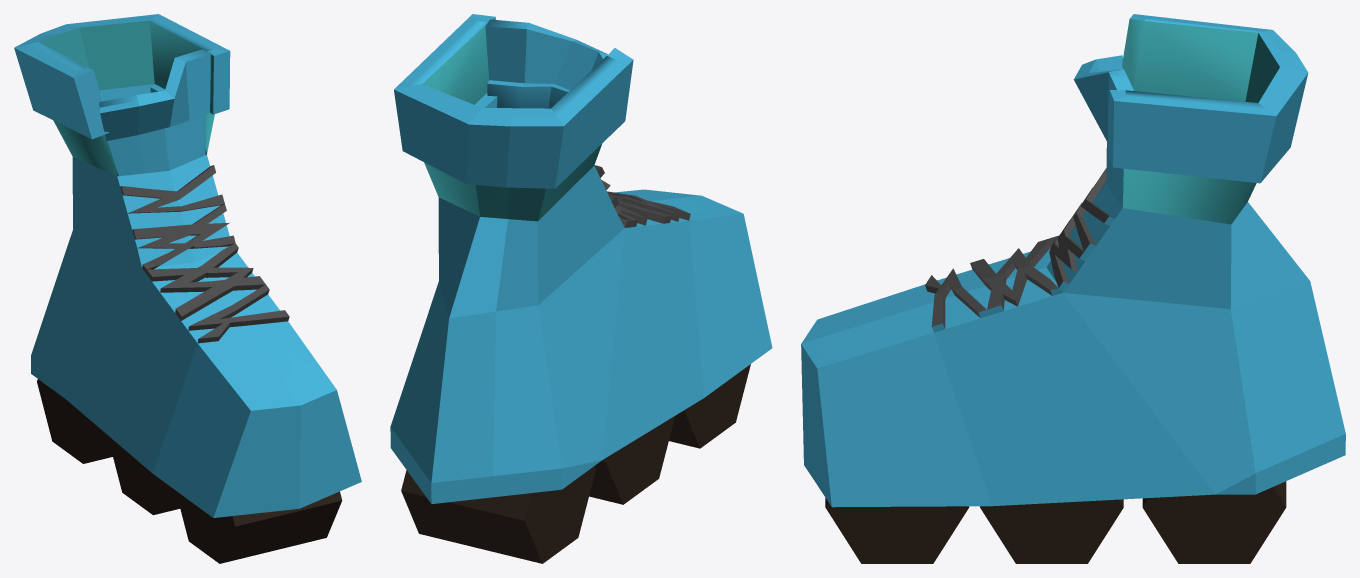
Rendered from pattttenennnn.fbx.
3 views of the same model, side by side, from view 1: azimuth 30°, elevation 25°; view 2: azimuth 150°, elevation 25°; view 3: azimuth 270°, elevation 25° (orthographic). The views are drawn at different scales.
Parts seen in each view (by area): view 1: Cylinder.005; view 2: Cylinder.005; view 3: Cylinder.005.
Boxes of the visible parts, x1,y1,x2,y2 form: Cylinder.005: (14, 14, 361, 563); Cylinder.005: (390, 14, 772, 563); Cylinder.005: (801, 14, 1345, 563).
Size of the model in its own units: 10.92 by 27.16 by 28.03.
